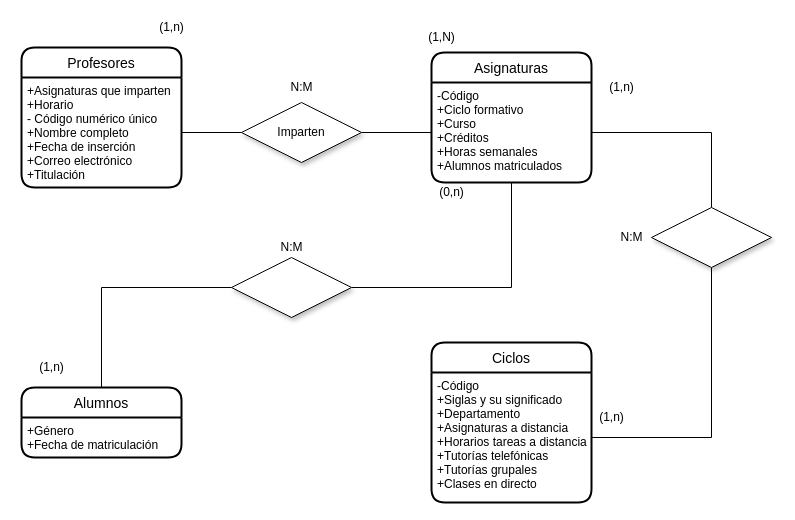
Image size: 795x520. Some labels were removed from this diagram. Each missing label, with the centre of its shape:
"Forman" belongs at point (712, 238).
"Matriculados" belongs at point (292, 288).
